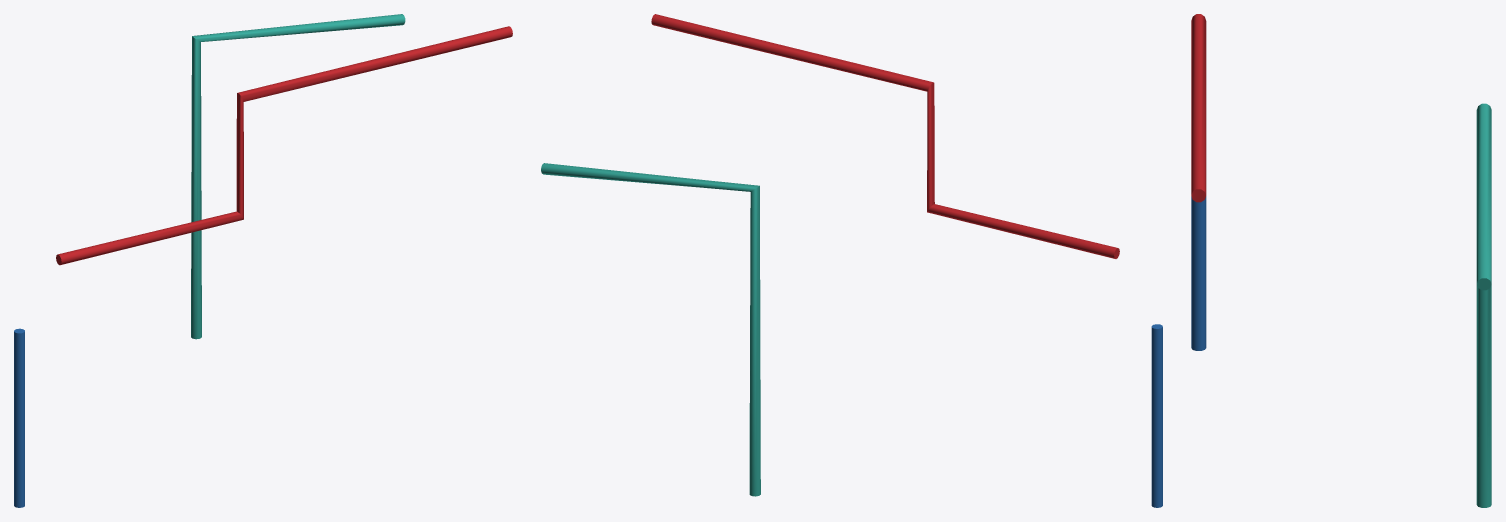
Rendered from hydraulic_power_unit_pressure.glb.
The picture shows the model from 3 angles, left to right: view 1: azimuth 30°, elevation 25°; view 2: azimuth 150°, elevation 25°; view 3: azimuth 270°, elevation 25°; orthographic projection. The views are drawn at different scales.
Parts seen in each view (by area): view 1: press; view 2: press; view 3: press.
Part boxes in pixels (x1,y1,x2,y2): press: (14, 14, 512, 507); press: (541, 14, 1162, 507); press: (1191, 14, 1491, 507).
Bounding box in the file's own units: 1.01 × 0.6995 × 0.4.
